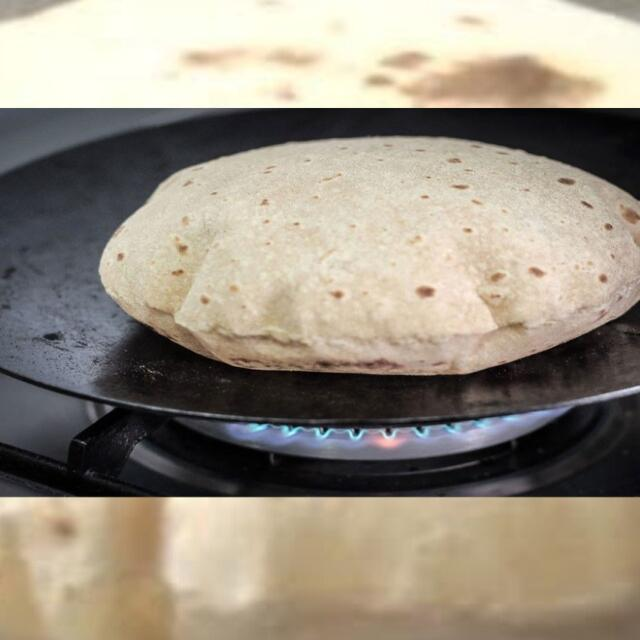ROTI: (99, 138, 639, 375)
